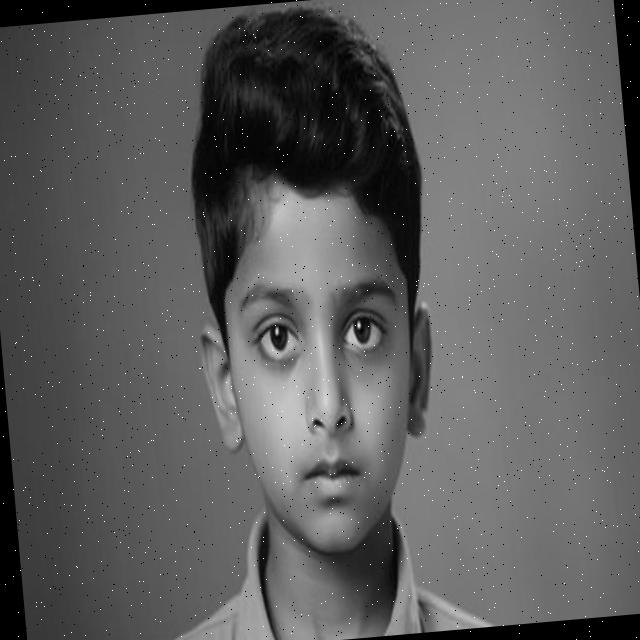Neutral: (215, 188, 430, 560)
